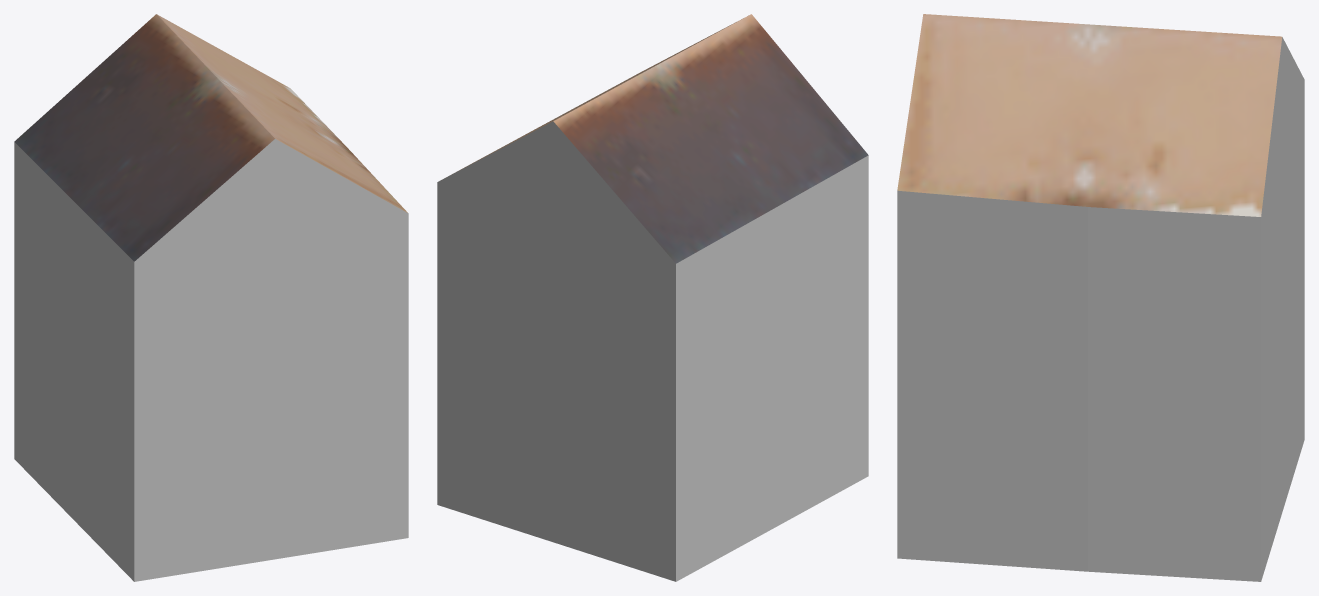
File: DEBW_0010007Txhi.gltf
3 renders of one model, left to right at view 1: azimuth 30°, elevation 25°; view 2: azimuth 150°, elevation 25°; view 3: azimuth 270°, elevation 25°, orthographic. The views are drawn at different scales.
Visible parts, largest first — view 1: Z_UP; view 2: Z_UP; view 3: Z_UP.
Boxes of the visible parts, x1,y1,x2,y2 form: Z_UP: [14, 14, 408, 581]; Z_UP: [437, 14, 868, 581]; Z_UP: [897, 14, 1304, 581].
Size of the model in its own units: 12.87 by 17.63 by 13.65.
2 materials, 1 textured.
